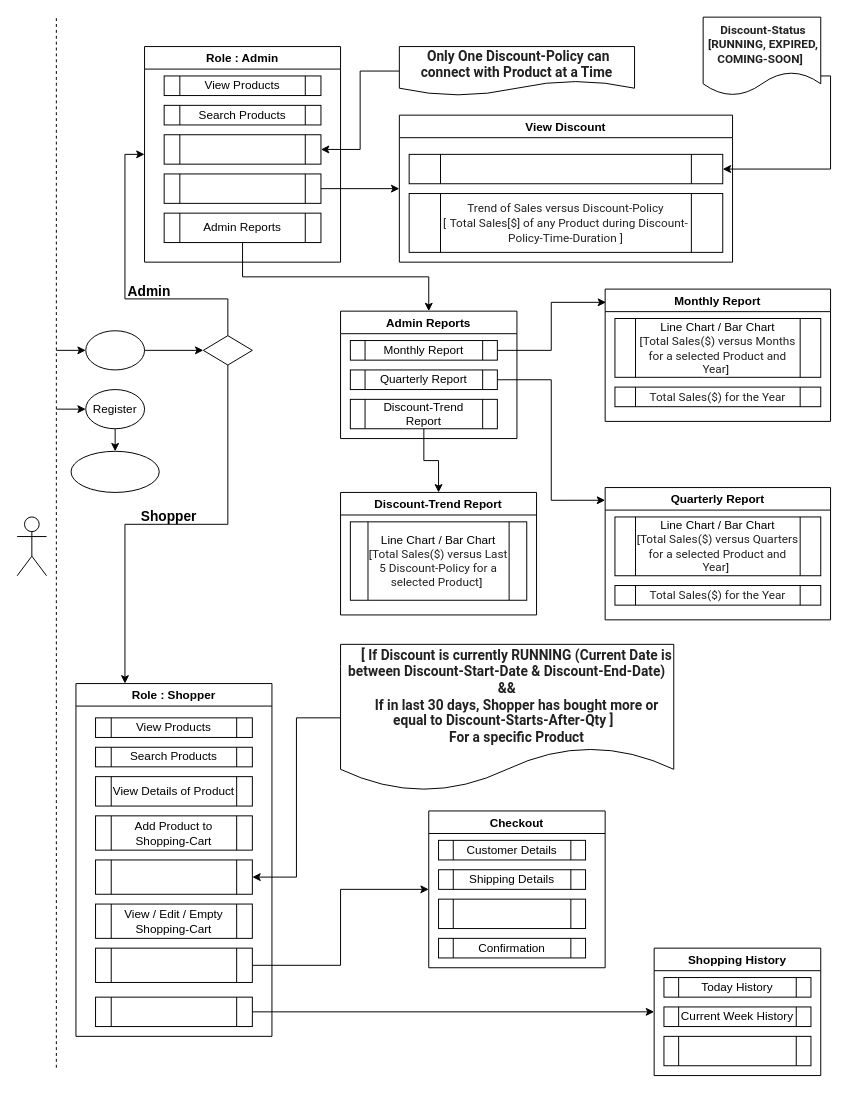
The diagram is 856 pixels wide and 1093 high, and some of its shapes have lost their labels. The shapes that lost their labels are listed below. From the top down, each one's centre as x and y in pixels, then its label:
the point at 242,149: Set Discount on Products
the point at 565,168: Discount-Status a nd other Discount-Policy Info
the point at 242,188: View Discount on Products
the point at 115,350: Login
the point at 114,471: Create Account
the point at 31,546: Actor
the point at 173,876: Get Discounted-Price on Product
the point at 512,913: Payment Details [ Stripe CC ]
the point at 173,964: Checkout from Shopping-Cart
the point at 173,1011: View Shopping History
the point at 737,1050: Current Month History
